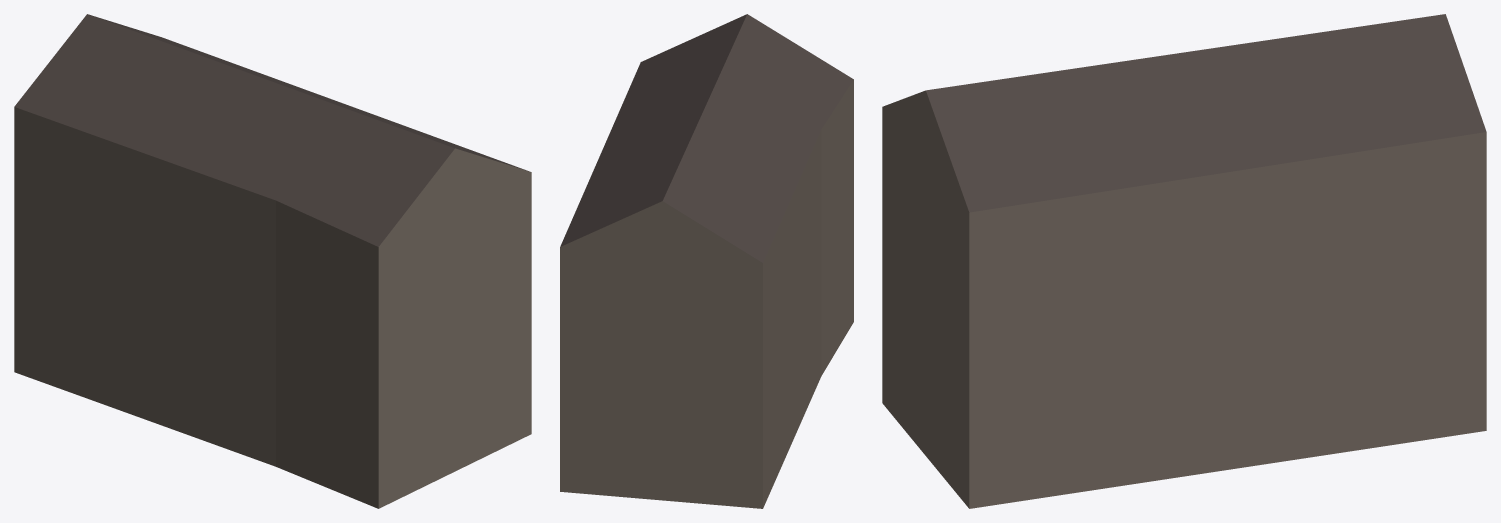
The picture shows the model from 3 angles, left to right: view 1: azimuth 30°, elevation 25°; view 2: azimuth 150°, elevation 25°; view 3: azimuth 270°, elevation 25°; orthographic projection. The views are drawn at different scales.
Parts seen in each view (by area): view 1: HP-w1198645077; view 2: HP-w1198645077; view 3: HP-w1198645077.
Boxes of the visible parts, x1=… form: HP-w1198645077: x1=14, y1=14, x2=531, y2=508; HP-w1198645077: x1=560, y1=14, x2=853, y2=508; HP-w1198645077: x1=882, y1=14, x2=1486, y2=508.
Bounding box in the file's own units: 7.78 × 7.4 × 11.09.
